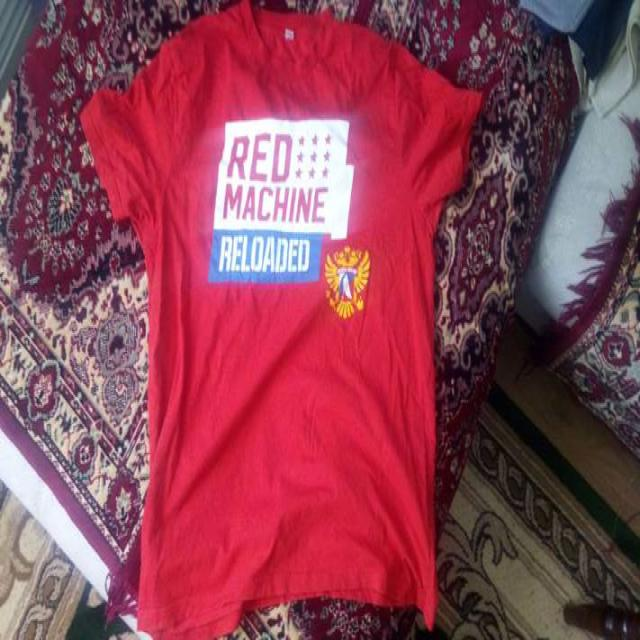Clothes -Biodegradable-: (81, 3, 476, 640)
